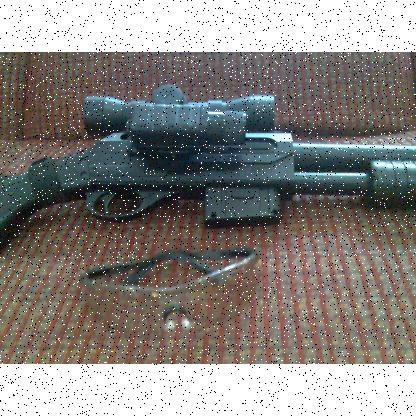gun: (14, 82, 408, 262)
